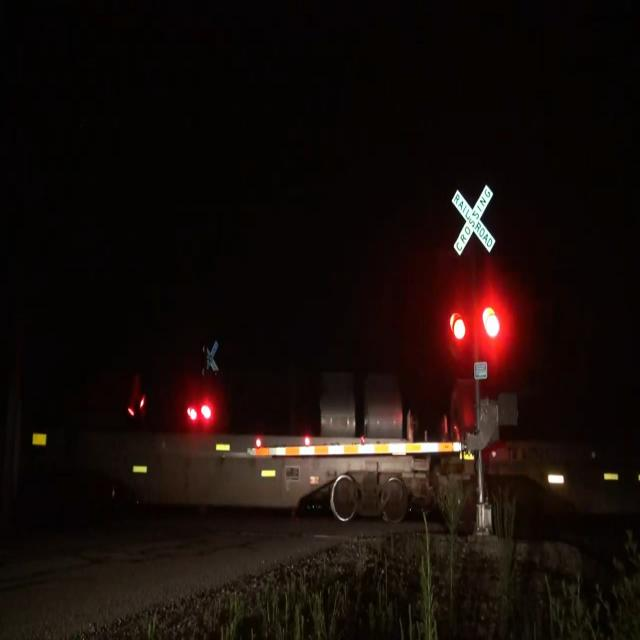tank: (82, 425, 432, 543)
